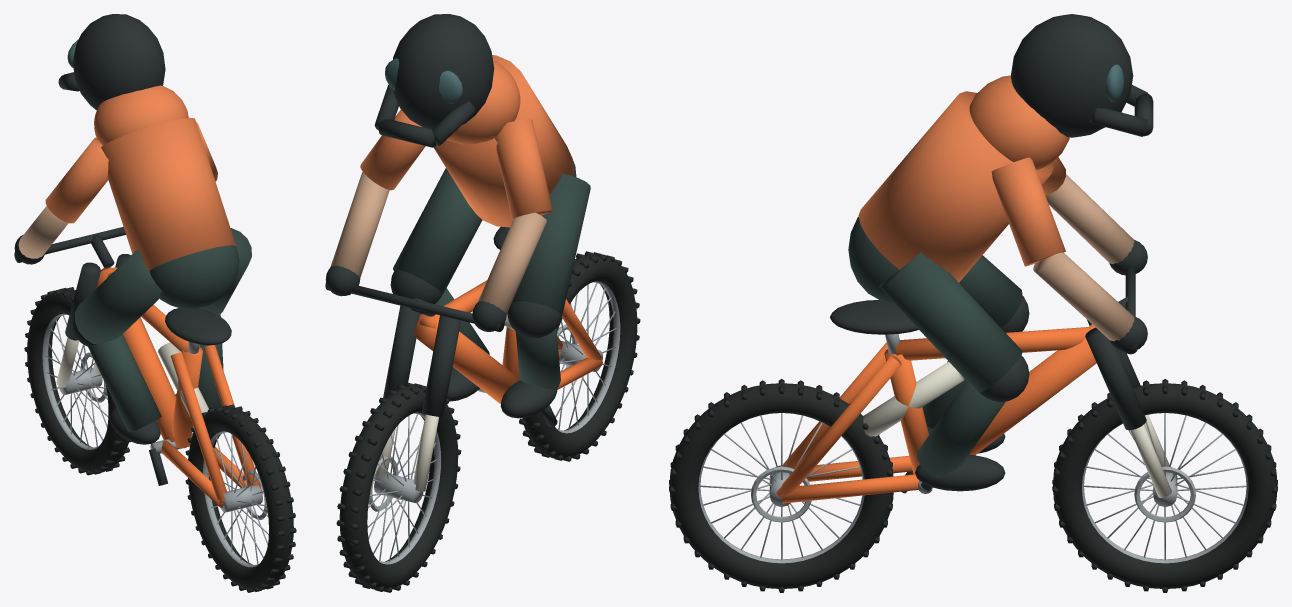
File: bike.glb
The picture shows the model from 3 angles, left to right: view 1: azimuth 30°, elevation 25°; view 2: azimuth 150°, elevation 25°; view 3: azimuth 270°, elevation 25°; orthographic projection. The views are drawn at different scales.
Visible parts, largest first — view 1: Rider, BikeFrame, WheelRear, WheelFront, SuspensionFork; view 2: Rider, WheelFront, WheelRear, BikeFrame, SuspensionFork; view 3: Rider, WheelFront, WheelRear, BikeFrame, SuspensionFork.
Boxes of the visible parts, box(x1,y1,x2,y2) form: Rider: box(14, 14, 251, 444); BikeFrame: box(14, 227, 262, 508); WheelRear: box(185, 404, 296, 592); WheelFront: box(24, 287, 130, 475); SuspensionFork: box(56, 254, 130, 387); Rider: box(325, 14, 590, 418); WheelFront: box(336, 382, 461, 592); WheelRear: box(519, 251, 640, 461); BikeFrame: box(325, 226, 602, 427); SuspensionFork: box(374, 305, 461, 491); Rider: box(848, 14, 1153, 491); WheelFront: box(1052, 379, 1277, 592); WheelRear: box(669, 379, 893, 592); BikeFrame: box(776, 267, 1137, 503); SuspensionFork: box(1085, 320, 1171, 497).
Bounding box in the file's own units: 0.8698 × 2.36 × 2.29.
